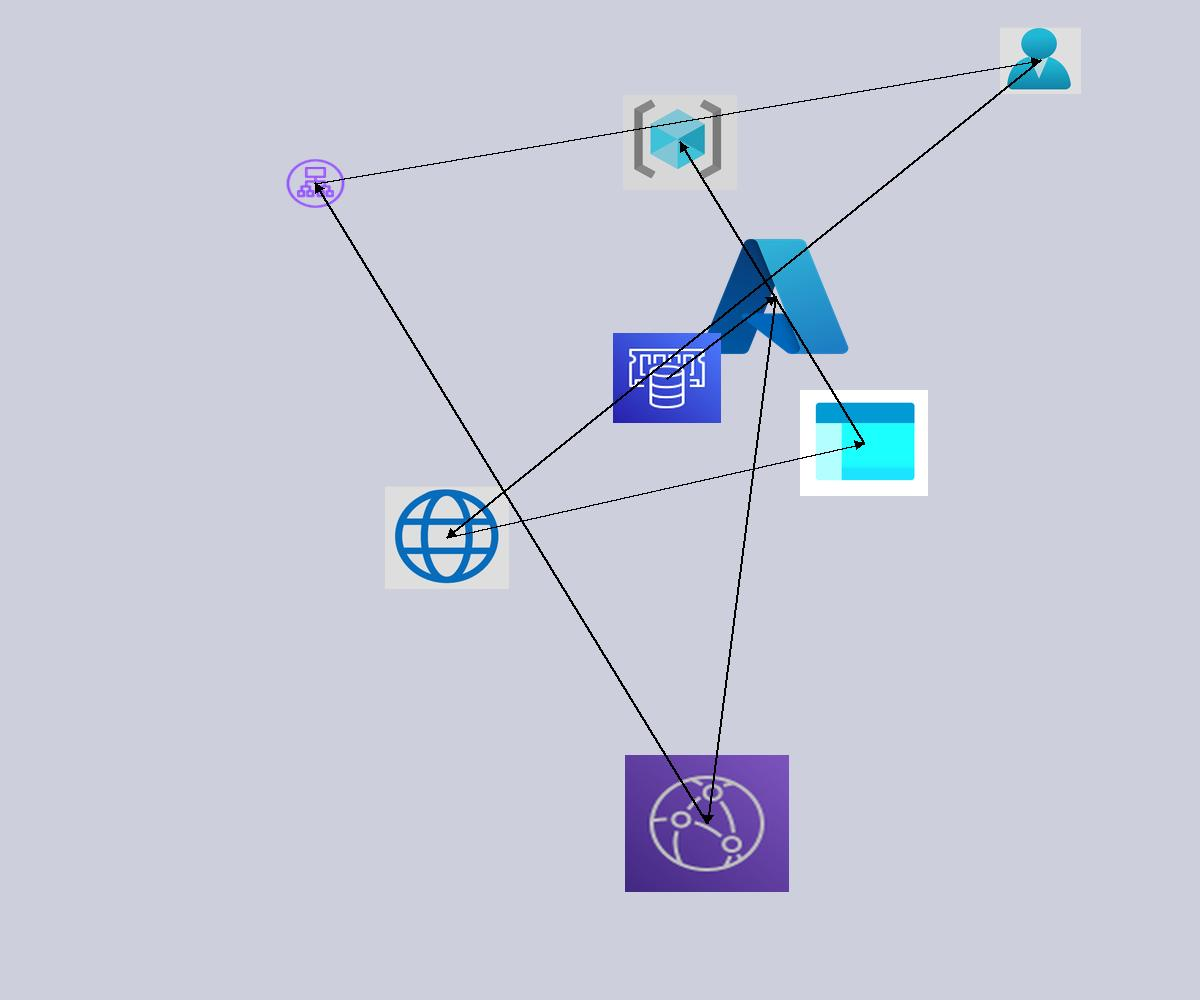AWS-CloudFront: (625, 755, 789, 892)
AWS-ElastiCache: (613, 333, 721, 423)
AWS-Res_Elastic-Load-Balancing_Application-Load-Balancer: (284, 157, 347, 210)
Azure_http: (385, 486, 509, 589)
Azure_management-portal: (800, 390, 928, 496)
Azure_resource_group: (623, 95, 737, 190)
Azure_services: (695, 230, 855, 363)
Azure_users: (1000, 27, 1081, 94)
